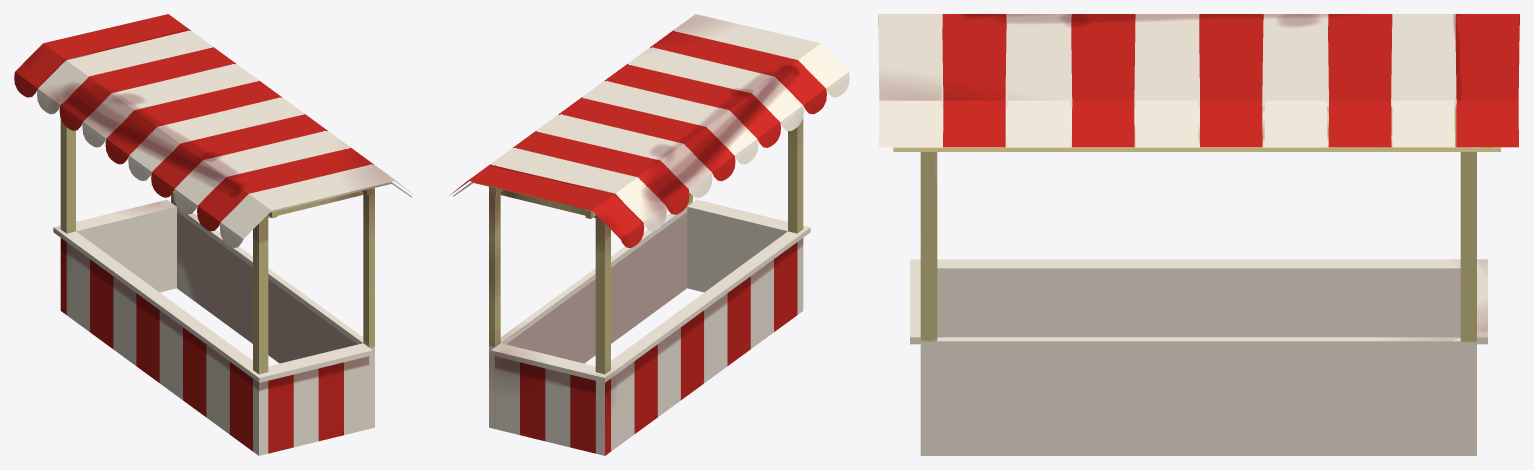
The model's file is booth patos.fbx.
3 renders of one model, left to right at view 1: azimuth 30°, elevation 25°; view 2: azimuth 150°, elevation 25°; view 3: azimuth 270°, elevation 25°, orthographic. The views are drawn at different scales.
Visible parts, largest first — view 1: Booth; view 2: Booth; view 3: Booth.
Boxes of the visible parts, left/top/right/bottom form: Booth: left=14, top=14, right=414, bottom=455; Booth: left=449, top=14, right=849, bottom=455; Booth: left=878, top=14, right=1519, bottom=455.
Size of the model in its own units: 715 by 984 by 1586.
